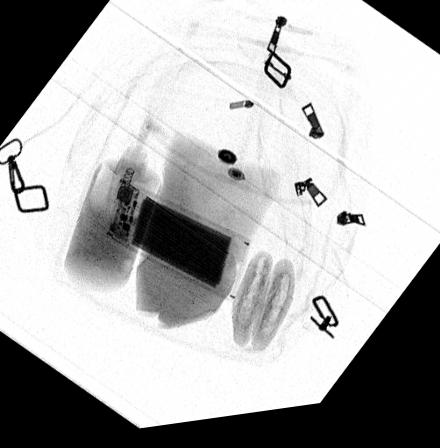Powerbank: (103, 180, 250, 307)
